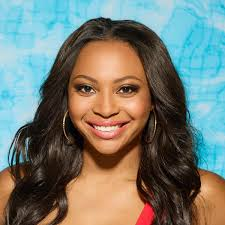no-mask: (60, 24, 161, 157)
